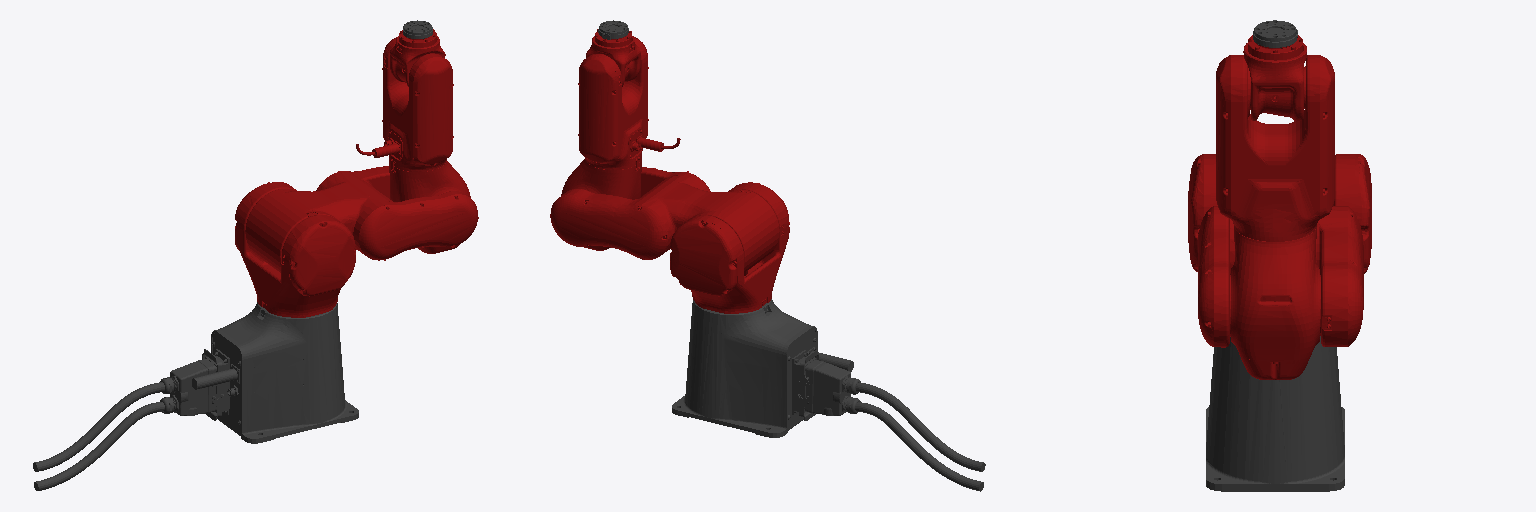
The robot description file, URDF, robot "hsr_jr603":
<robot
  name="hsr_jr603">
  
  <link name="world"/>

  <joint name="fixed" type="fixed">
    <parent link="world"/>
    <child link="base_link"/>
	<origin
      xyz="0 0 1"
      rpy="0 0 0" />
  </joint>  

  <link
    name="base_link">
    <inertial>
      <origin
        xyz="-0.04134 0.00084503 -0.24778"
        rpy="0 0 0" />
      <mass
        value="6.73" />
      <inertia
        ixx="0.0054925"
        ixy="0.00089049"
        ixz="-0.002793"
        iyy="0.018137"
        iyz="0.0001034"
        izz="0.012864" />
    </inertial>
    <visual>
      <origin
        xyz="0 0 0"
        rpy="0 0 0" />
      <geometry>
        <mesh
          filename="package://hsr_description/meshes/jr603/base_link.STL" />
      </geometry>
      <material
        name="">
        <color
          rgba="0.3 0.3 0.3 1" />
      </material>
    </visual>
    <collision>
      <origin
        xyz="0 0 0"
        rpy="0 0 0" />
      <geometry>
        <mesh
          filename="package://hsr_description/meshes/jr603/base_link.STL" />
      </geometry>
    </collision>
  </link>
  <link
    name="link1">
    <inertial>
      <origin
        xyz="1.7733E-05 -0.0064938 -0.041624"
        rpy="0 0 0" />
      <mass
        value="2.1859" />
      <inertia
        ixx="0.0032584"
        ixy="-9.8676E-07"
        ixz="3.3951E-09"
        iyy="0.00067224"
        iyz="0.00029829"
        izz="0.0026069" />
    </inertial>
    <visual>
      <origin
        xyz="0 0 0"
        rpy="0 0 0" />
      <geometry>
        <mesh
          filename="package://hsr_description/meshes/jr603/link1.STL" />
      </geometry>
      <material
        name="">
        <color
          rgba="0.6 0.1 0.1 1" />
      </material>
    </visual>
    <collision>
      <origin
        xyz="0 0 0"
        rpy="0 0 0" />
      <geometry>
        <mesh
          filename="package://hsr_description/meshes/jr603/link1.STL" />
      </geometry>
    </collision>
  </link>
  <joint
    name="joint_1"
    type="revolute">
    <origin
      xyz="0 0 0"
      rpy="-9.7175E-17 -2.6052E-16 6.9389E-18" />
    <parent
      link="base_link" />
    <child
      link="link1" />
    <axis
      xyz="0 0 1" />
    <limit
      lower="-3.1415"
      upper="3.1415"
      effort="28"
      velocity="3.2" />
    <safety_controller
      soft_upper_limit="3.4819"
      soft_lower_limit="-3.4819"
      k_position="0"
      k_velocity="1.6" />
  </joint>
  <link
    name="link2">
    <inertial>
      <origin
        xyz="0.099213 -0.0060553 0.0030817"
        rpy="0 0 0" />
      <mass
        value="4.4815" />
      <inertia
        ixx="0.0041928"
        ixy="-0.00031232"
        ixz="0.0012463"
        iyy="0.021864"
        iyz="-7.5232E-05"
        izz="0.017709" />
    </inertial>
    <visual>
      <origin
        xyz="0 0 0"
        rpy="0 0 0" />
      <geometry>
        <mesh
          filename="package://hsr_description/meshes/jr603/link2.STL" />
      </geometry>
      <material
        name="">
        <color
          rgba="0.6 0.1 0.1 1" />
      </material>
    </visual>
    <collision>
      <origin
        xyz="0 0 0"
        rpy="0 0 0" />
      <geometry>
        <mesh
          filename="package://hsr_description/meshes/jr603/link2.STL" />
      </geometry>
    </collision>
  </link>
  <joint
    name="joint_2"
    type="revolute">
    <origin
      xyz="0 0.0075 0"
      rpy="-1.5708 -1.5582E-16 -7.8704E-17" />
    <parent
      link="link1" />
    <child
      link="link2" />
    <axis
      xyz="0 0 1" />
    <limit
      lower="-2.7038"
      upper="0.08722"
      effort="28"
      velocity="3.2" />
    <safety_controller
      soft_upper_limit="-0.07853"
      soft_lower_limit="-2.60926"
      k_position="0"
      k_velocity="1.6" />
  </joint>
  <link
    name="link3">
    <inertial>
      <origin
        xyz="-0.0076214 -0.019426 0.00038474"
        rpy="0 0 0" />
      <mass
        value="1.6556" />
      <inertia
        ixx="0.0016174"
        ixy="-0.00037566"
        ixz="1.0614E-06"
        iyy="0.00016331"
        iyz="5.1483E-06"
        izz="0.0017103" />
    </inertial>
    <visual>
      <origin
        xyz="0 0 0"
        rpy="0 0 0" />
      <geometry>
        <mesh
          filename="package://hsr_description/meshes/jr603/link3.STL" />
      </geometry>
      <material
        name="">
        <color
          rgba="0.6 0.1 0.1 1" />
      </material>
    </visual>
    <collision>
      <origin
        xyz="0 0 0"
        rpy="0 0 0" />
      <geometry>
        <mesh
          filename="package://hsr_description/meshes/jr603/link3.STL" />
      </geometry>
    </collision>
  </link>
  <joint
    name="joint_3"
    type="revolute">
    <origin
      xyz="0.284 0 -0.0075"
      rpy="7.2825E-17 -9.1181E-17 9.7145E-17" />
    <parent
      link="link2" />
    <child
      link="link3" />
    <axis
      xyz="0 0 1" />
    <limit
      lower="-0.349"
      upper="4.1015"
      effort="28"
      velocity="3.2" />
    <safety_controller
      soft_upper_limit="4.0927"
      soft_lower_limit="-0.34034"
      k_position="0"
      k_velocity="1.6" />
  </joint>
  <link
    name="link4">
    <inertial>
      <origin
        xyz="-0.00030554 0.0029019 0.18537"
        rpy="0 0 0" />
      <mass
        value="1.4831" />
      <inertia
        ixx="0.0019662"
        ixy="-4.1628E-06"
        ixz="-3.4226E-05"
        iyy="0.0013379"
        iyz="8.3826E-05"
        izz="0.00071527" />
    </inertial>
    <visual>
      <origin
        xyz="0 0 0"
        rpy="0 0 0" />
      <geometry>
        <mesh
          filename="package://hsr_description/meshes/jr603/link4.STL" />
      </geometry>
      <material
        name="">
        <color
          rgba="0.6 0.1 0.1 1" />
      </material>
    </visual>
    <collision>
      <origin
        xyz="0 0 0"
        rpy="0 0 0" />
      <geometry>
        <mesh
          filename="package://hsr_description/meshes/jr603/link4.STL" />
      </geometry>-2.541E
    </collision>
  </link>
  <joint
    name="joint_4"
    type="revolute">
    <origin
      xyz="-0.03 0 0"
      rpy="1.5708 7.4106E-16 -2.0931E-17" />
    <parent
      link="link3" />
    <child
      link="link4" />
    <axis
      xyz="0 0 1" />
    <limit
      lower="-3.124139"
      upper="3.124139"
      effort="28"
      velocity="3.2" />
    <safety_controller
      soft_upper_limit="3.124139"
      soft_lower_limit="-3.124139"
      k_position="0"
      k_velocity="1.6" />
  </joint>
  <link
    name="link5">
    <inertial>
      <origin
        xyz="4.478E-05 -0.020634 5.7036E-05"
        rpy="0 0 0" />
      <mass
        value="0.37027" />
      <inertia
        ixx="0.0001167"
        ixy="-3.9862E-07"
        ixz="2.858E-08"
        iyy="1.2223E-05"
        iyz="-5.2507E-06"
        izz="0.00010719" />
    </inertial>
    <visual>
      <origin
        xyz="0 0 0"
        rpy="0 0 0" />
      <geometry>
        <mesh
          filename="package://hsr_description/meshes/jr603/link5.STL" />
      </geometry>
      <material
        name="">
        <color
          rgba="0.6 0.1 0.1 1" />
      </material>
    </visual>
    <collision>
      <origin
        xyz="0 0 0"
        rpy="0 0 0" />
      <geometry>
        <mesh
          filename="package://hsr_description/meshes/jr603/link5.STL" />
      </geometry>
    </collision>
  </link>
  <joint
    name="joint_5"
    type="revolute">
    <origin
      xyz="0 0 0.2865"
      rpy="-1.5708 2.0867E-17 -2.541E-17" />
    <parent
      link="link4" />
    <child
      link="link5" />
    <axis
      xyz="0 0 1" />
    <limit
      lower="-1.6580"
      upper="1.6580"
      effort="28"
      velocity="3.2" />
    <safety_controller
      soft_upper_limit="1.666789435654"
      soft_lower_limit="-1.562069680534"
      k_position="0"
      k_velocity="1.6" />
  </joint>
  <link
    name="link6">
    <inertial>
      <origin
        xyz="1.1085E-10 1.338E-05 -0.0055759"
        rpy="0 0 0" />
      <mass
        value="0.019515" />
      <inertia
        ixx="1.1281E-07"
        ixy="-5.8474E-14"
        ixz="1.0084E-14"
        iyy="2.8371E-09"
        iyz="1.1946E-08"
        izz="1.1245E-07" />
    </inertial>
    <visual>
      <origin
        xyz="0 0 0"
        rpy="0 0 0" />
      <geometry>
        <mesh
          filename="package://hsr_description/meshes/jr603/link6.STL" />
      </geometry>
      <material
        name="">
        <color
          rgba="0.3 0.3 0.3 1" />
      </material>
    </visual>
    <collision>
      <origin
        xyz="0 0 0"
        rpy="0 0 0" />
      <geometry>
        <mesh
          filename="package://hsr_description/meshes/jr603/link6.STL" />
      </geometry>
    </collision>
  </link>
  <joint
    name="joint_6"
    type="revolute">
    <origin
      xyz="0 -0.0815 0"
      rpy="1.5708 -1.5708 0" />
    <parent
      link="link5" />
    <child
      link="link6" />
    <axis
      xyz="0 0 1" />
    <limit
      lower="-6.283185307179"
      upper="6.283185307179"
      effort="28"
      velocity="3.2" />
    <safety_controller
      soft_upper_limit="6.283185307179"
      soft_lower_limit="0"
      k_position="0"
      k_velocity="1.6" />
  </joint>

<gazebo>
    <plugin name="gazebo_ros_control" filename="libgazebo_ros_control.so">
      <robotNamespace>/</robotNamespace>
      <robotSimType>gazebo_ros_control/DefaultRobotHWSim</robotSimType>
    </plugin>
  </gazebo>

<gazebo reference="base_link">
	<material>Gazebo/FlatBlack</material>
</gazebo>
<gazebo reference="link1">
	<material>Gazebo/Red</material>
</gazebo>
<gazebo reference="link2">
	<material>Gazebo/Red</material>
</gazebo>
<gazebo reference="link3">
	<material>Gazebo/Red</material>
</gazebo>
<gazebo reference="link4">
	<material>Gazebo/Red</material>
</gazebo>
<gazebo reference="link5">
	<material>Gazebo/Red</material>
</gazebo>
<gazebo reference="link6">
	<material>Gazebo/Black</material>
</gazebo>

  <transmission name="tran1">
    <type>transmission_interface/SimpleTransmission</type>
    <joint name="joint_1">
      <hardwareInterface>PositionJointInterface</hardwareInterface>
    </joint>
    <actuator name="motor1">
      <hardwareInterface>PositionJointInterface</hardwareInterface>
      <mechanicalReduction>1</mechanicalReduction>
    </actuator>
  </transmission>

  <transmission name="tran2">
    <type>transmission_interface/SimpleTransmission</type>
    <joint name="joint_2">
      <hardwareInterface>PositionJointInterface</hardwareInterface>
    </joint>
    <actuator name="motor2">
      <hardwareInterface>PositionJointInterface</hardwareInterface>
      <mechanicalReduction>1</mechanicalReduction>
    </actuator>
  </transmission>

  <transmission name="tran3">
    <type>transmission_interface/SimpleTransmission</type>
    <joint name="joint_3">
      <hardwareInterface>PositionJointInterface</hardwareInterface>
    </joint>
    <actuator name="motor3">
      <hardwareInterface>PositionJointInterface</hardwareInterface>
      <mechanicalReduction>1</mechanicalReduction>
    </actuator>
  </transmission>

  <transmission name="tran4">
    <type>transmission_interface/SimpleTransmission</type>
    <joint name="joint_4">
      <hardwareInterface>PositionJointInterface</hardwareInterface>
    </joint>
    <actuator name="motor4">
      <hardwareInterface>PositionJointInterface</hardwareInterface>
      <mechanicalReduction>1</mechanicalReduction>
    </actuator>
  </transmission>

  <transmission name="tran5">
    <type>transmission_interface/SimpleTransmission</type>
    <joint name="joint_5">
      <hardwareInterface>PositionJointInterface</hardwareInterface>
    </joint>
    <actuator name="motor5">
      <hardwareInterface>PositionJointInterface</hardwareInterface>
      <mechanicalReduction>1</mechanicalReduction>
    </actuator>
  </transmission>

  <transmission name="tran6">
    <type>transmission_interface/SimpleTransmission</type>
    <joint name="joint_6">
      <hardwareInterface>PositionJointInterface</hardwareInterface>
    </joint>
    <actuator name="motor6">
      <hardwareInterface>PositionJointInterface</hardwareInterface>
      <mechanicalReduction>1</mechanicalReduction>
    </actuator>
  </transmission>  

</robot>

--- What the picture shows (computed from the rendered views, not written in the file) ---
The picture shows the robot from 3 angles, left to right: view 1: azimuth 30°, elevation 25°; view 2: azimuth 150°, elevation 25°; view 3: azimuth 270°, elevation 25°; orthographic projection.
Model hsr_jr603 with 8 links and 7 joints (6 revolute, 1 fixed), rooted at world, posed every joint at zero.
Visible links, largest first — view 1: base_link, link2, link1, link4, link3, link5; view 2: base_link, link2, link1, link4, link3, link5; view 3: base_link, link4, link3, link2, link1, link5, link6.
Link boxes in pixels (x1,y1,x2,y2): base_link: (33, 302, 358, 490); link2: (245, 166, 478, 272); link1: (235, 182, 356, 317); link4: (356, 37, 453, 171); link3: (389, 161, 470, 253); link5: (390, 29, 445, 86); base_link: (672, 299, 985, 491); link2: (550, 167, 779, 272); link1: (670, 182, 789, 313); link4: (578, 36, 680, 169); link3: (561, 159, 641, 250); link5: (586, 29, 640, 86); base_link: (1206, 336, 1344, 491); link4: (1216, 55, 1334, 241); link3: (1231, 228, 1319, 379); link2: (1198, 206, 1363, 347); link1: (1188, 154, 1371, 273); link5: (1243, 35, 1306, 120); link6: (1253, 20, 1297, 47).
Size in the robot's own frame: 0.8963 by 0.2315 by 0.7586 metres.
7 mesh visuals loaded from 7 distinct referenced files (7 binary STL).
